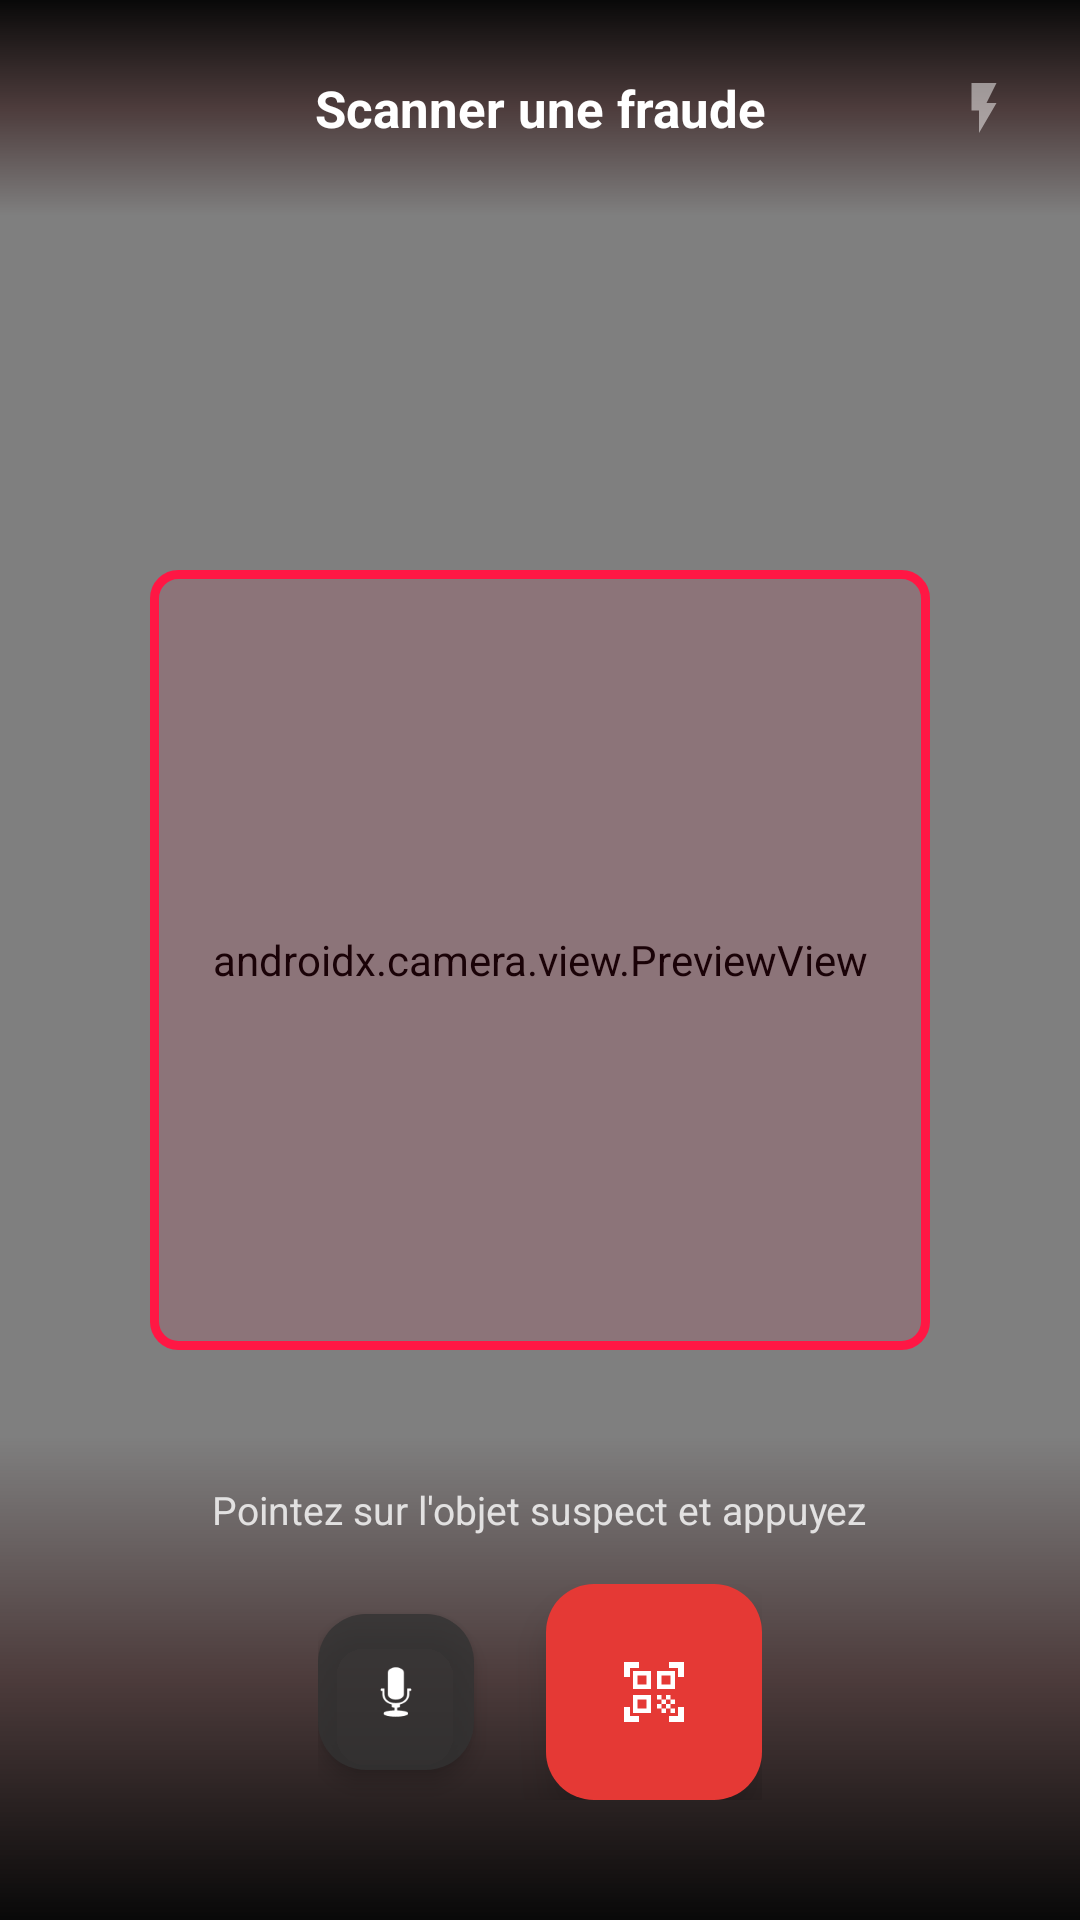

Named icons in this screenshot (1080px×1920px) and their centers, [x,y]:
scan: [654,1692]
speak now: [396,1692]
